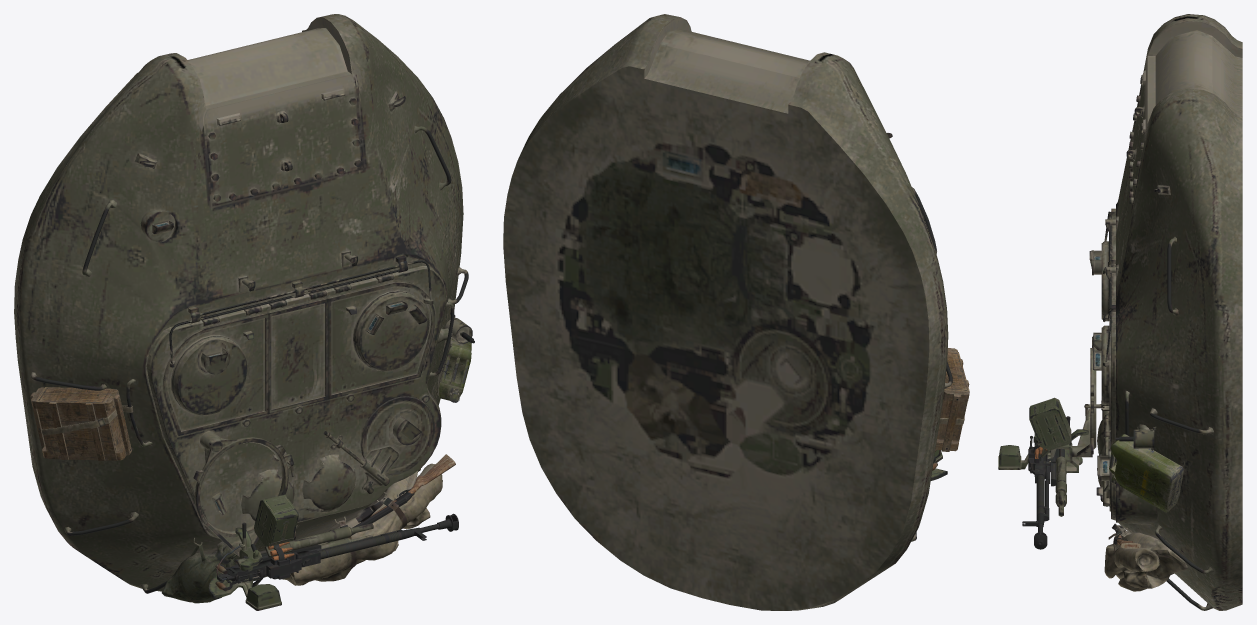
The model's file is Turret_01.glb.
The picture shows the model from 3 angles, left to right: view 1: azimuth 30°, elevation 25°; view 2: azimuth 150°, elevation 25°; view 3: azimuth 270°, elevation 25°; orthographic projection. The views are drawn at different scales.
Parts seen in each view (by area): view 1: set_0_group_0; view 2: set_0_group_0; view 3: set_0_group_0.
Part boxes in pixels (bbox=[...]): set_0_group_0: bbox=[14, 14, 474, 610]; set_0_group_0: bbox=[503, 14, 969, 610]; set_0_group_0: bbox=[998, 14, 1242, 610].
Bounding box in the file's own units: 3.08 × 3.66 × 1.54.
Materials: 1 (1 with a texture image).
